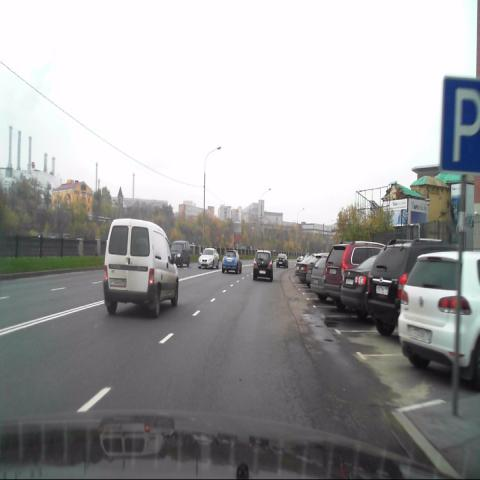6_4: (442, 73, 480, 174)
